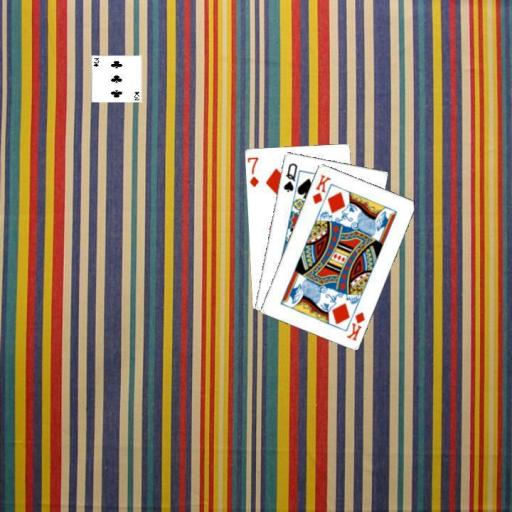card-corner: (309, 172, 332, 206), (344, 309, 366, 342), (280, 160, 299, 194), (246, 154, 260, 188)
